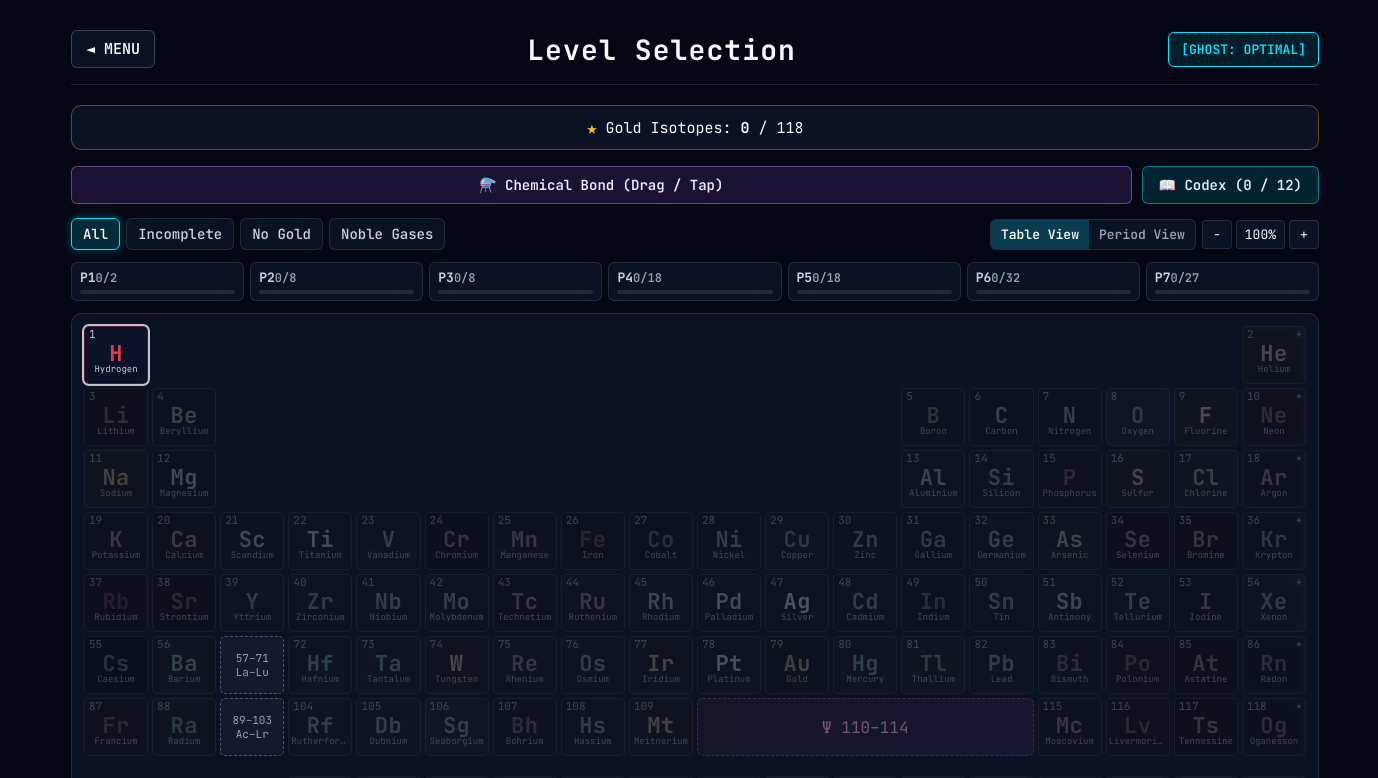
Scenario: LevelSelection component › navigates back to menu when clicking back button
Click the button "◄ MENU". click: (113, 49)
box: [71,30,155,68]
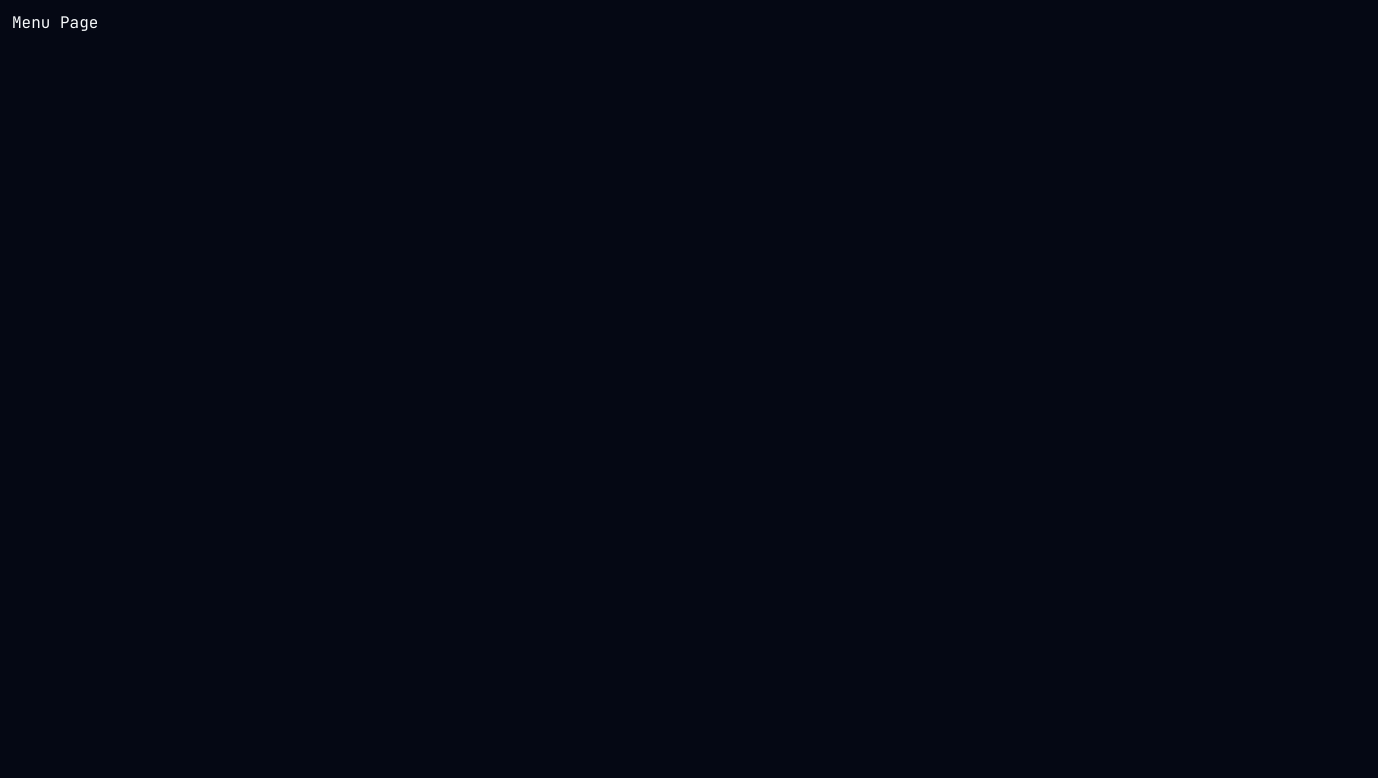
expect the text "Menu Page" is shown: met, box [12,12,98,33]
